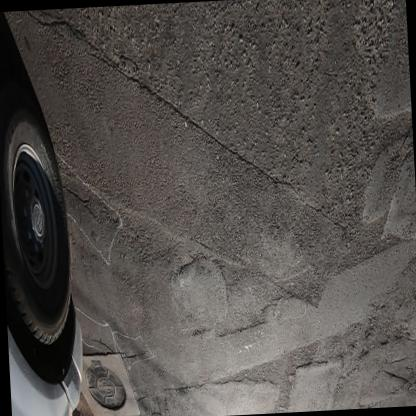manholes: (80, 340, 129, 416)
